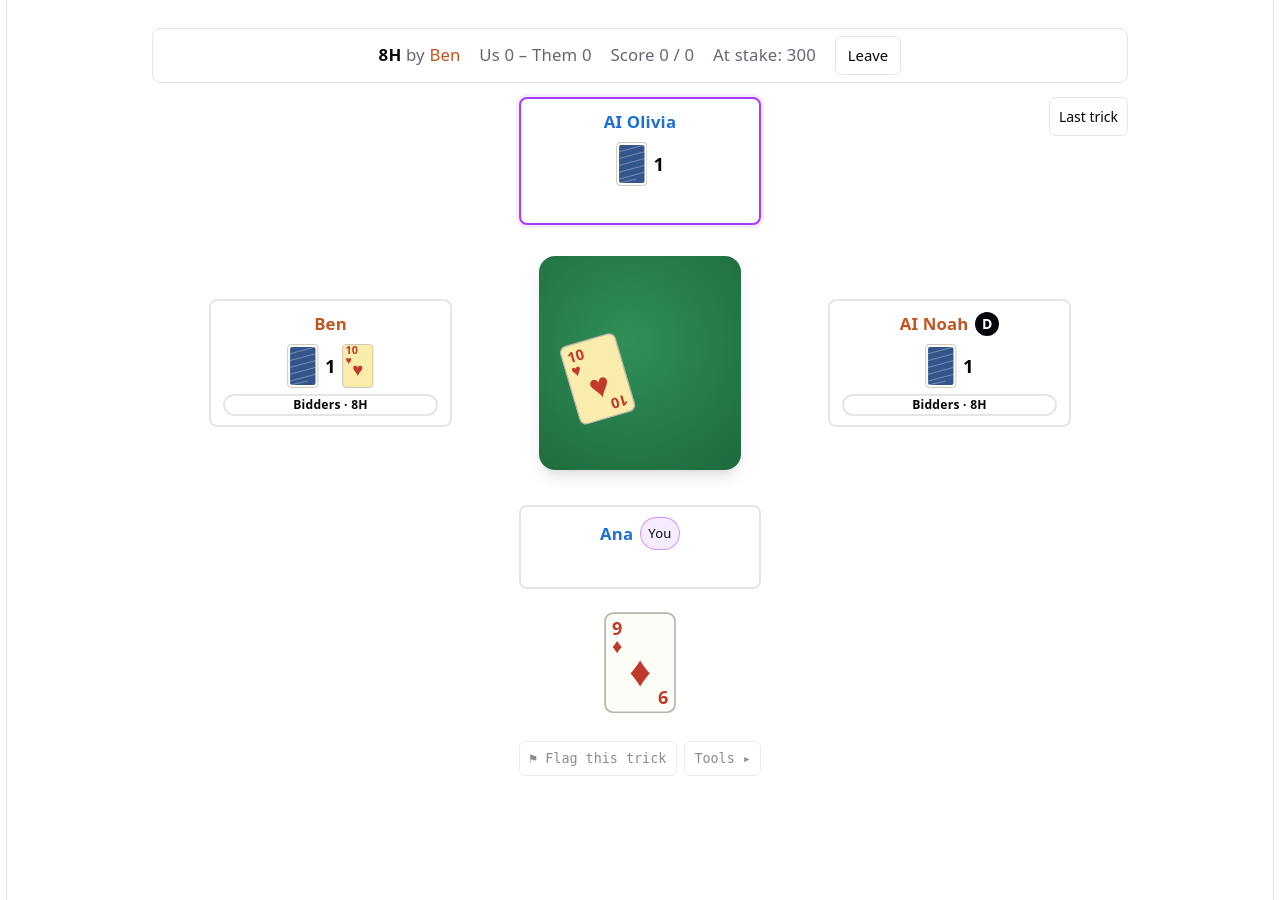
Scenario: AC-2: the last-trick peek shows the correct previous trick with its winner
Click the button with test id "last-trick-toggle".
click(1088, 116)  # box [1049, 97, 1128, 136]
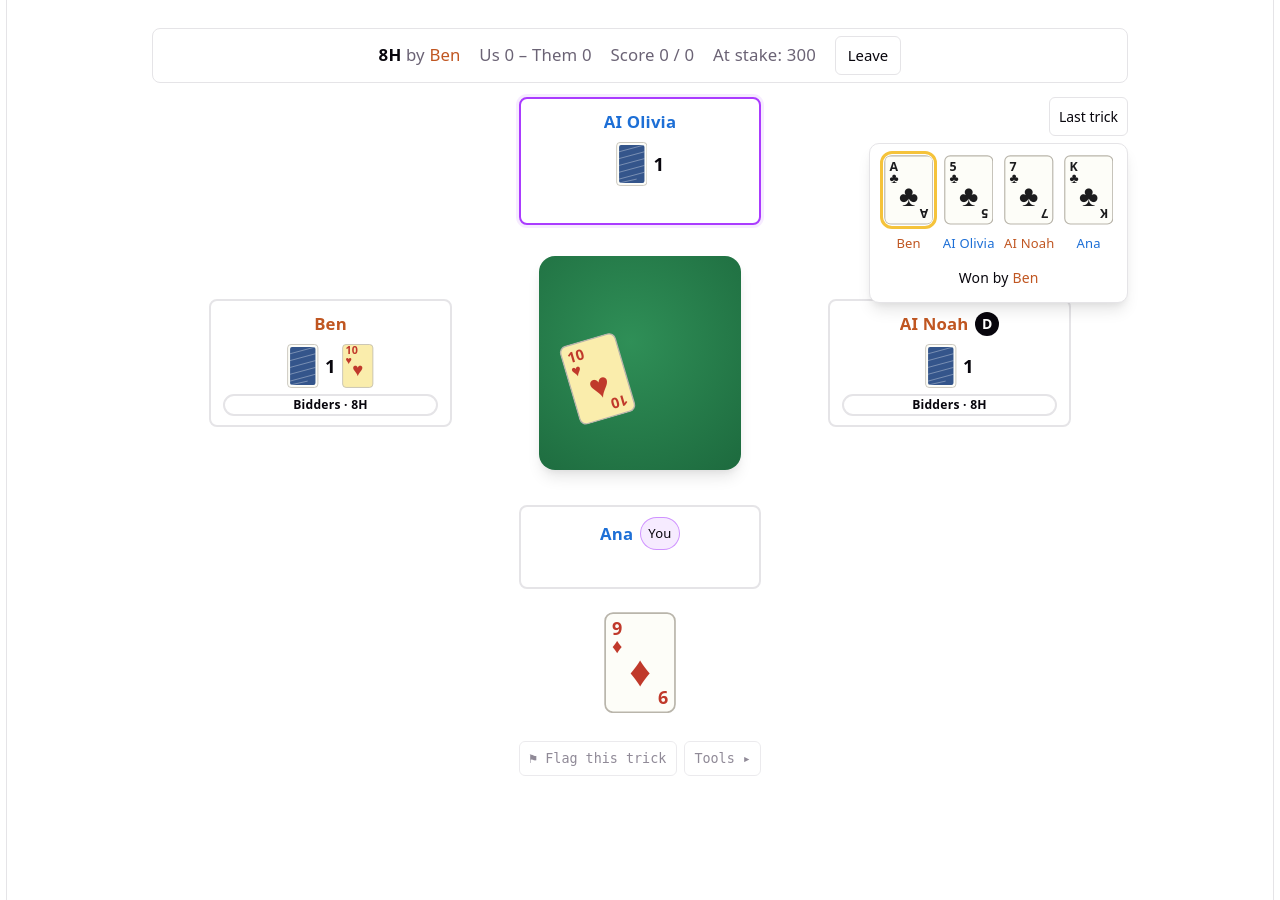
Check: the element with test id "last-trick-winner" reads "Won by Ben", box [959, 268, 1039, 287]
